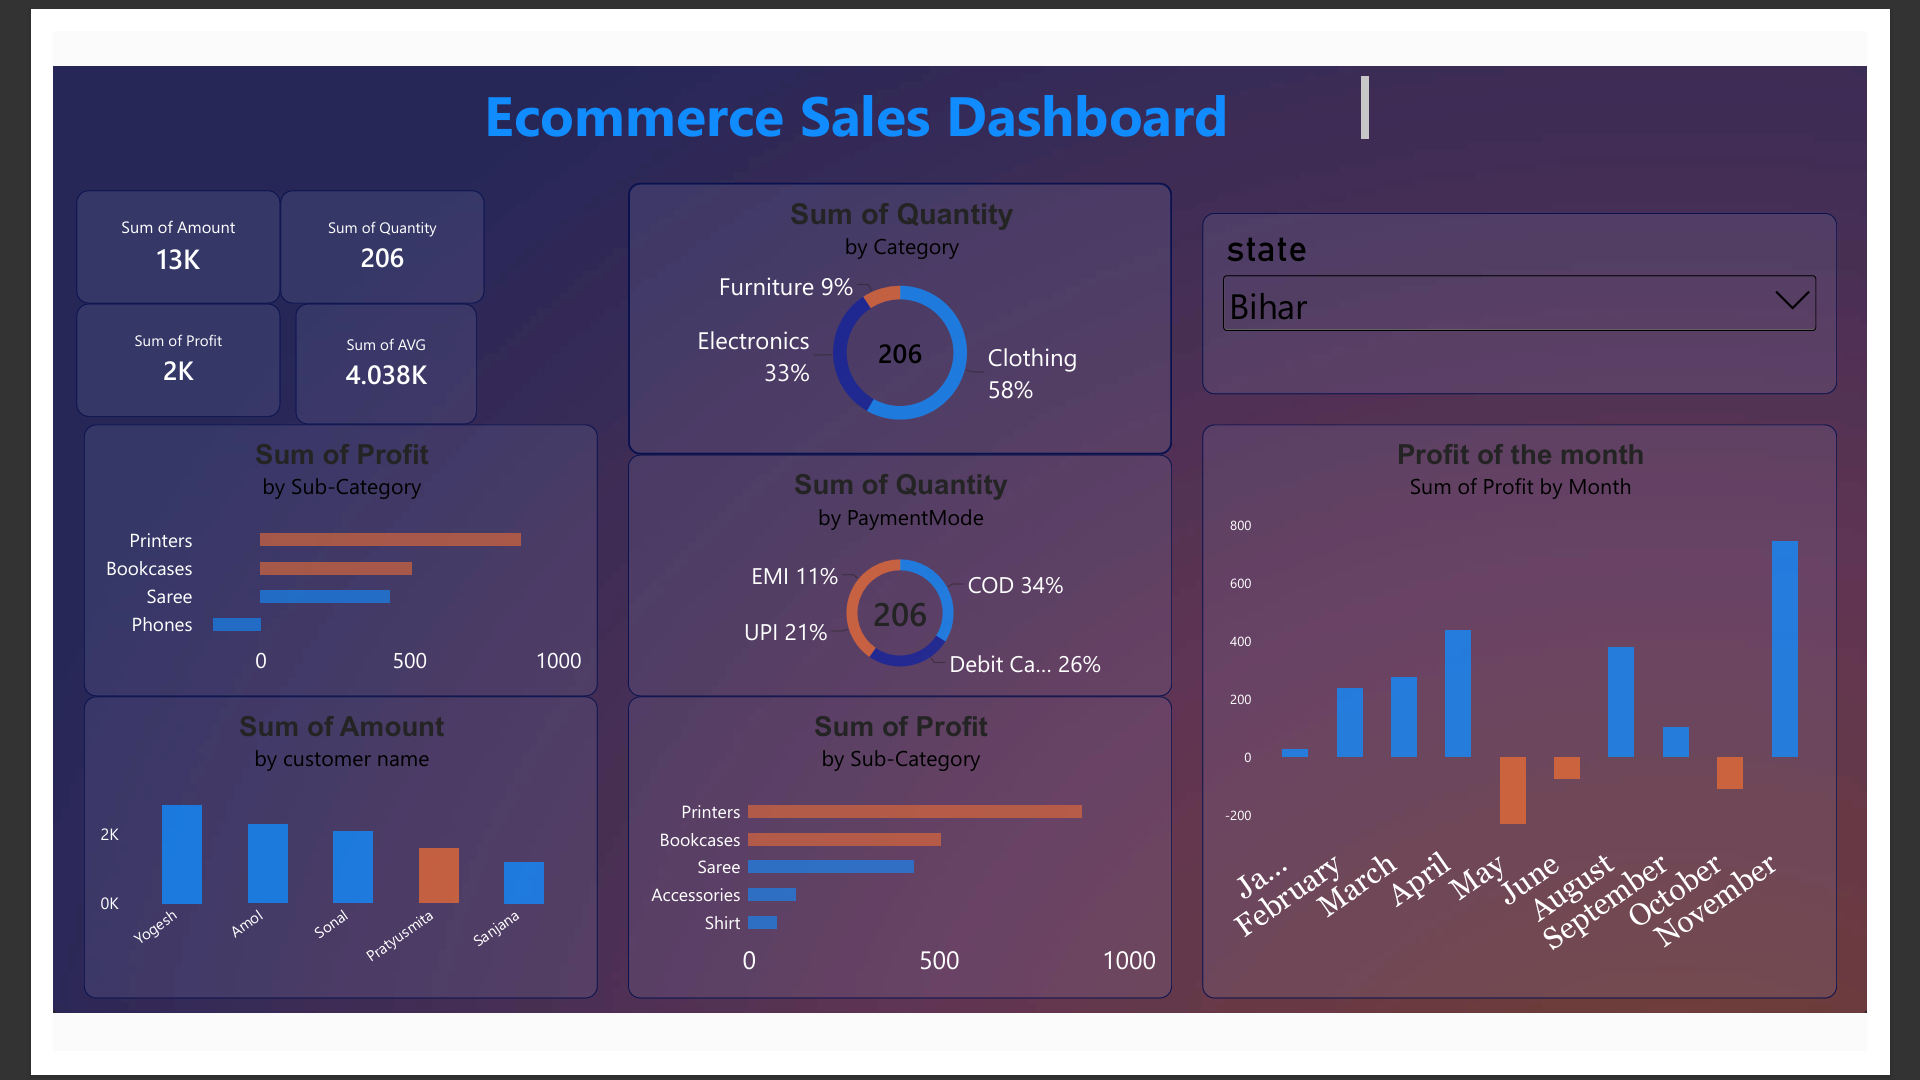

The page's visual inventory and layout, read from the dashboard file:
{"tool":"powerbi","page":{"name":"Page 1","canvas":[1920,1080],"ordinal":0},"visuals":[{"type":"textbox","box":[456,48,936,72],"z":0},{"type":"columnChart","title":"Profit of the month","fields":{"Category":["Orders.order date.Variation.Date Hierarchy.Month"],"Y":["Sum(Details.Profit)"]},"box":[1216,416,672,608],"z":1000},{"type":"barChart","fields":{"Category":["Details.Sub-Category"],"Y":["Sum(Details.Profit)"]},"box":[608,704,576,320],"z":2000},{"type":"donutChart","fields":{"Category":["Details.Category"],"Y":["Sum(Details.Quantity)"]},"box":[608,160,576,288],"z":3000},{"type":"donutChart","fields":{"Y":["Sum(Details.Quantity)"],"Category":["Details.PaymentMode"]},"box":[608,448,576,256],"z":4000},{"type":"cardVisual","fields":{"Data":["Sum(Details.Amount)"]},"box":[24,168,216,120],"z":5000},{"type":"cardVisual","fields":{"Data":["Sum(Details.Quantity)"]},"box":[240,168,216,120],"z":6000},{"type":"cardVisual","fields":{"Data":["Sum(Details.Profit)"]},"box":[24,288,216,120],"z":7000},{"type":"cardVisual","fields":{"Data":["Sum(Details.AVG)"]},"box":[256,288,192,128],"z":8000},{"type":"barChart","fields":{"Category":["Details.Sub-Category"],"Y":["Sum(Details.Profit)"]},"box":[32,416,544,288],"z":9000},{"type":"columnChart","fields":{"Category":["Orders.customer name"],"Y":["Sum(Details.Amount)"]},"box":[32,704,544,320],"z":10000},{"type":"slicer","fields":{"Values":["Orders.state"]},"box":[1216,192,672,192],"z":11000}]}

Visuals, with their boxes in screenshot pixels (x1, y1, x2, y2), scaled from the page's 1920x1080 canvas onto the 1920x1080 screenshot:
textbox: [left=456, top=48, right=1392, bottom=120]
"Profit of the month" columnChart: [left=1216, top=416, right=1888, bottom=1024]
barChart - Details.Sub-Category x Sum(Details.Profit): [left=608, top=704, right=1184, bottom=1024]
donutChart - Details.Category x Sum(Details.Quantity): [left=608, top=160, right=1184, bottom=448]
donutChart - Sum(Details.Quantity) x Details.PaymentMode: [left=608, top=448, right=1184, bottom=704]
cardVisual - Sum(Details.Amount): [left=24, top=168, right=240, bottom=288]
cardVisual - Sum(Details.Quantity): [left=240, top=168, right=456, bottom=288]
cardVisual - Sum(Details.Profit): [left=24, top=288, right=240, bottom=408]
cardVisual - Sum(Details.AVG): [left=256, top=288, right=448, bottom=416]
barChart - Details.Sub-Category x Sum(Details.Profit): [left=32, top=416, right=576, bottom=704]
columnChart - Orders.customer name x Sum(Details.Amount): [left=32, top=704, right=576, bottom=1024]
slicer - Orders.state: [left=1216, top=192, right=1888, bottom=384]
